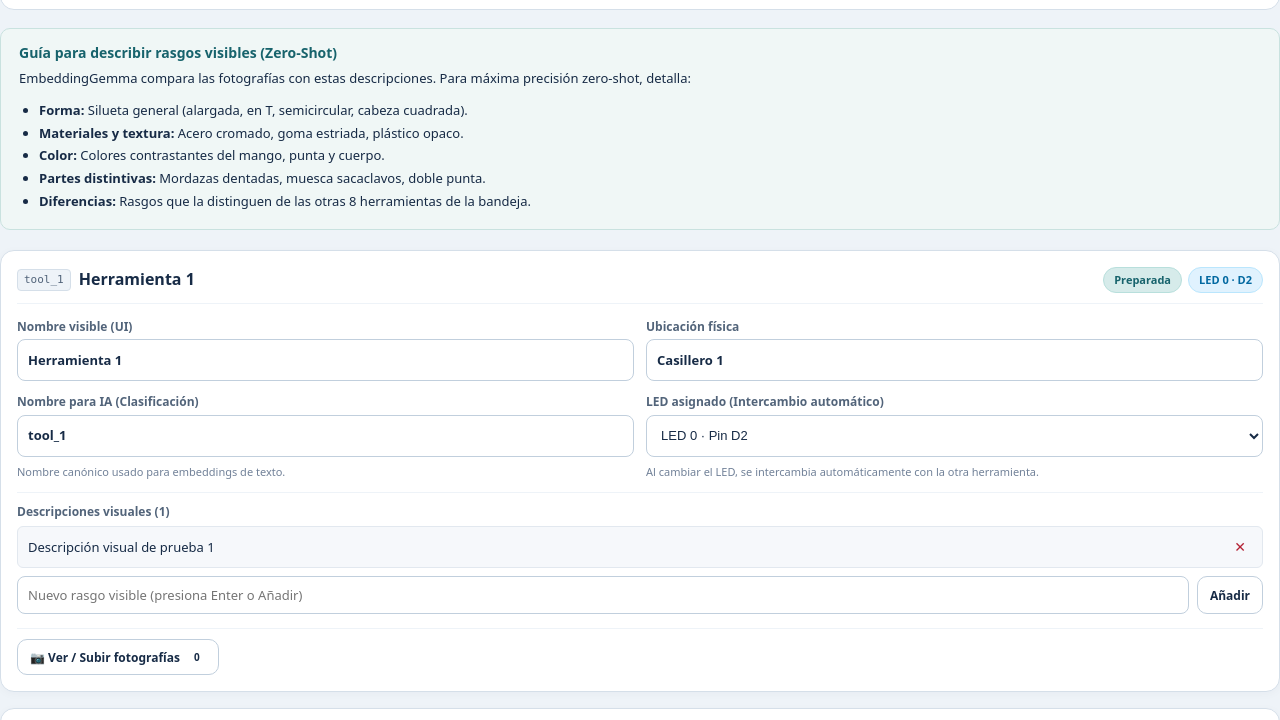
Test: ToolManager component › detects 409 conflict and offers reload without silent overwrite
(page scrolled)
Edit tool
Replace the text in the field with placeholder "Ej. Martillo de uña" with "Alicate de corte": (326, 360) [17, 339, 634, 381]
(page scrolled)
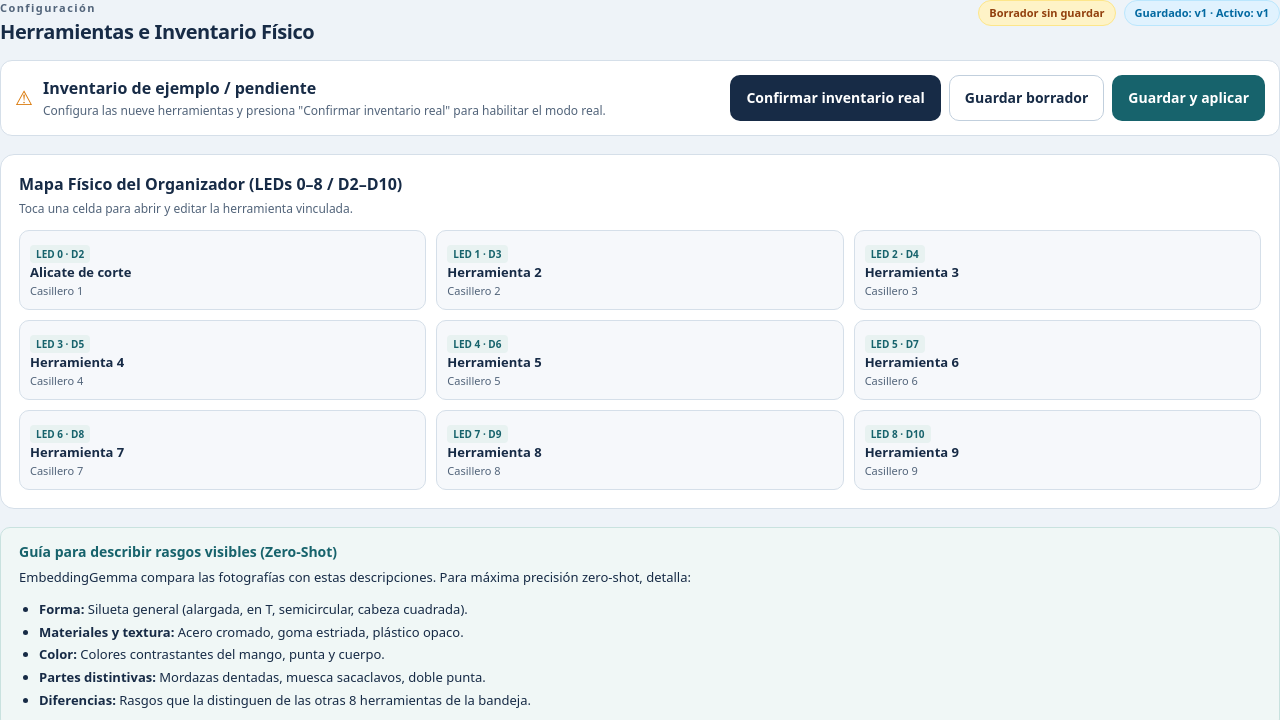
Click the button "Guardar borrador": (1027, 98) [949, 75, 1104, 121]
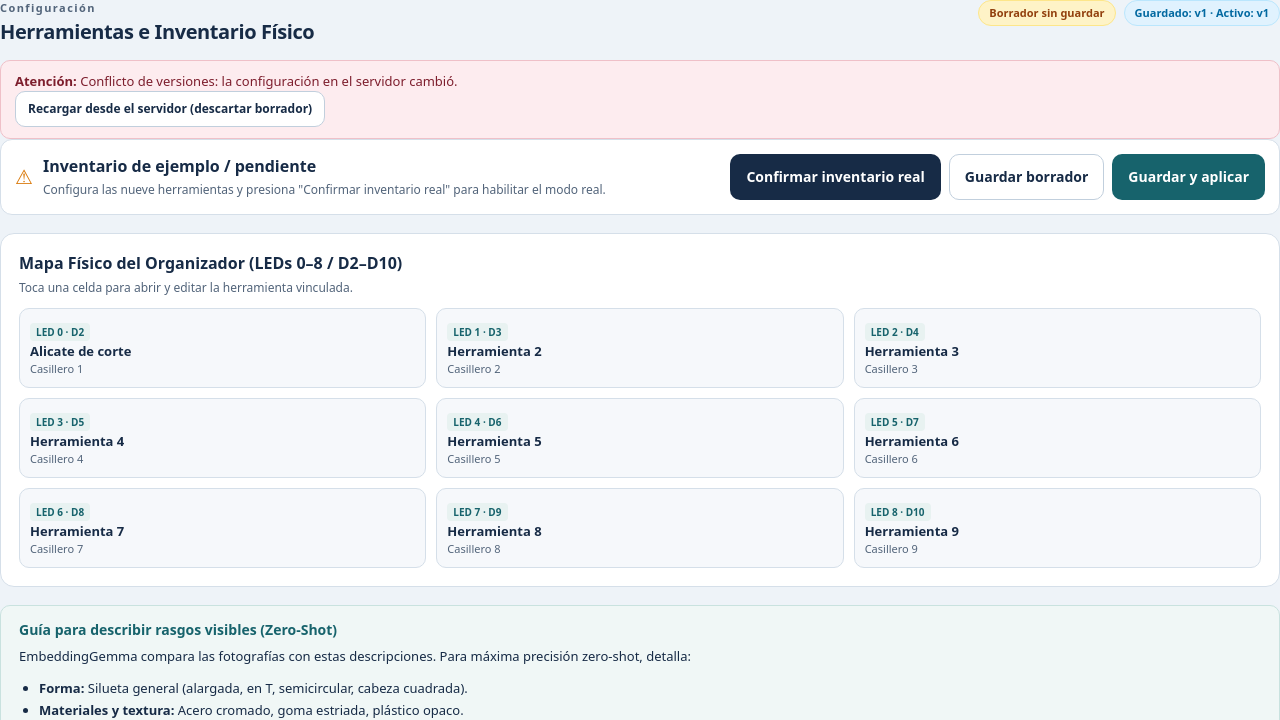
Check: the text "Conflicto de versiones: la configuración en el servidor cambió" is shown, box [80, 72, 458, 90]
Check: the button "Recargar desde el servidor (descartar borrador)" is shown, box [15, 91, 325, 127]
